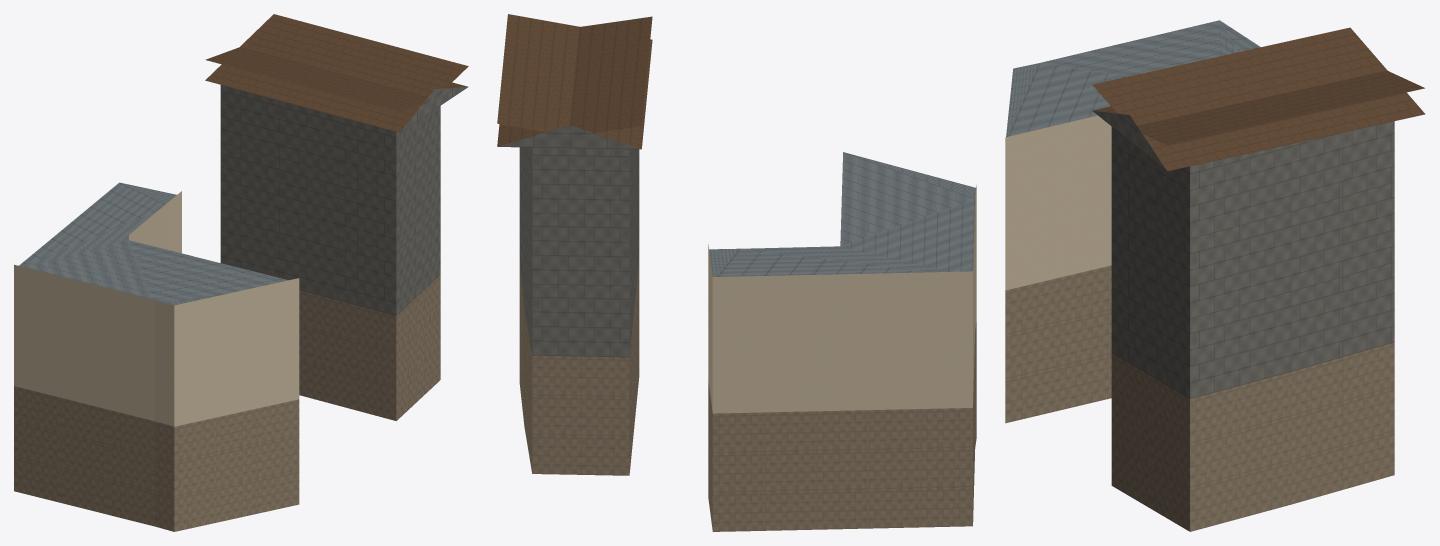
The model's file is bld_c27_-54_555.gltf.
The picture shows the model from 3 angles, left to right: view 1: azimuth 30°, elevation 25°; view 2: azimuth 150°, elevation 25°; view 3: azimuth 270°, elevation 25°; orthographic projection. The views are drawn at different scales.
Visible parts, largest first — view 1: bld_c27_-54_555; view 2: bld_c27_-54_555; view 3: bld_c27_-54_555.
Boxes of the visible parts, x1,y1,x2,y2 form: bld_c27_-54_555: (14, 14, 468, 531); bld_c27_-54_555: (497, 14, 976, 531); bld_c27_-54_555: (1005, 20, 1425, 531).
Size of the model in its own units: 22.02 by 16.2 by 14.63.
7 materials, 7 textured.
